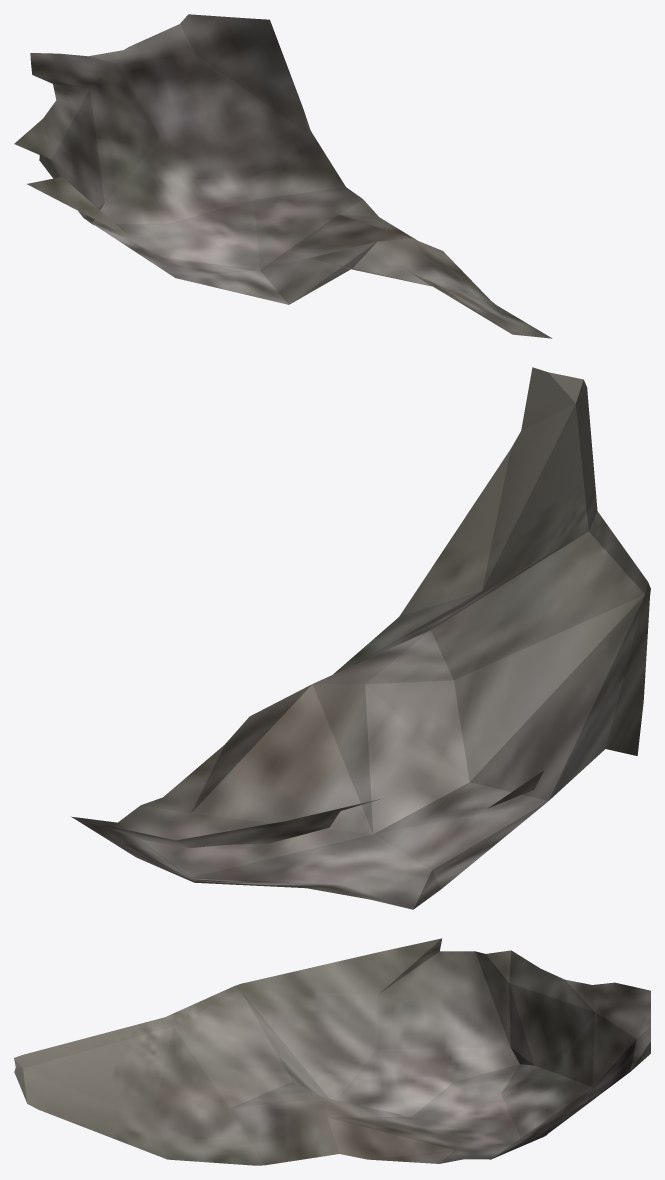
3 views of the same model, one above another, from view 1: azimuth 30°, elevation 25°; view 2: azimuth 150°, elevation 25°; view 3: azimuth 270°, elevation 25° (orthographic). The views are drawn at different scales.
Size of the model in its own units: 1.25 by 0.4219 by 2.51.
1 material, 1 textured.
